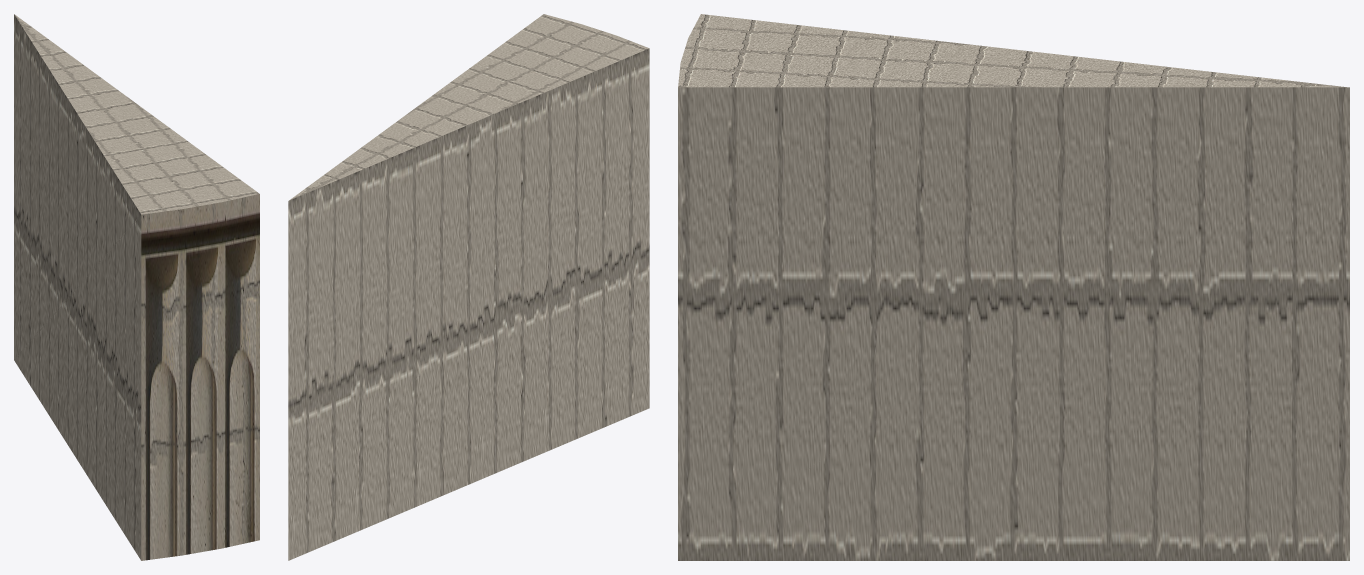
The model's file is NEWEST 15 Degree Slice.fbx.
The picture shows the model from 3 angles, left to right: view 1: azimuth 30°, elevation 25°; view 2: azimuth 150°, elevation 25°; view 3: azimuth 270°, elevation 25°; orthographic projection. The views are drawn at different scales.
Visible parts, largest first — view 1: polySurface3; view 2: polySurface3; view 3: polySurface3.
Part boxes in pixels (box(x1,y1,x2,y2)): polySurface3: box(14, 14, 259, 560); polySurface3: box(288, 14, 649, 560); polySurface3: box(678, 14, 1349, 560).
Size of the model in its own units: 0.2588 by 0.7775 by 1.
